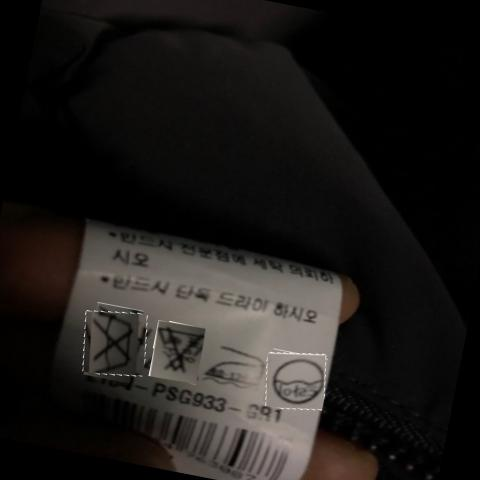DN_wash: (88, 314, 142, 373)
dry_clean: (270, 354, 325, 408)
iron_low: (212, 346, 267, 390)
non_chlorine_bleach: (158, 325, 206, 375)
